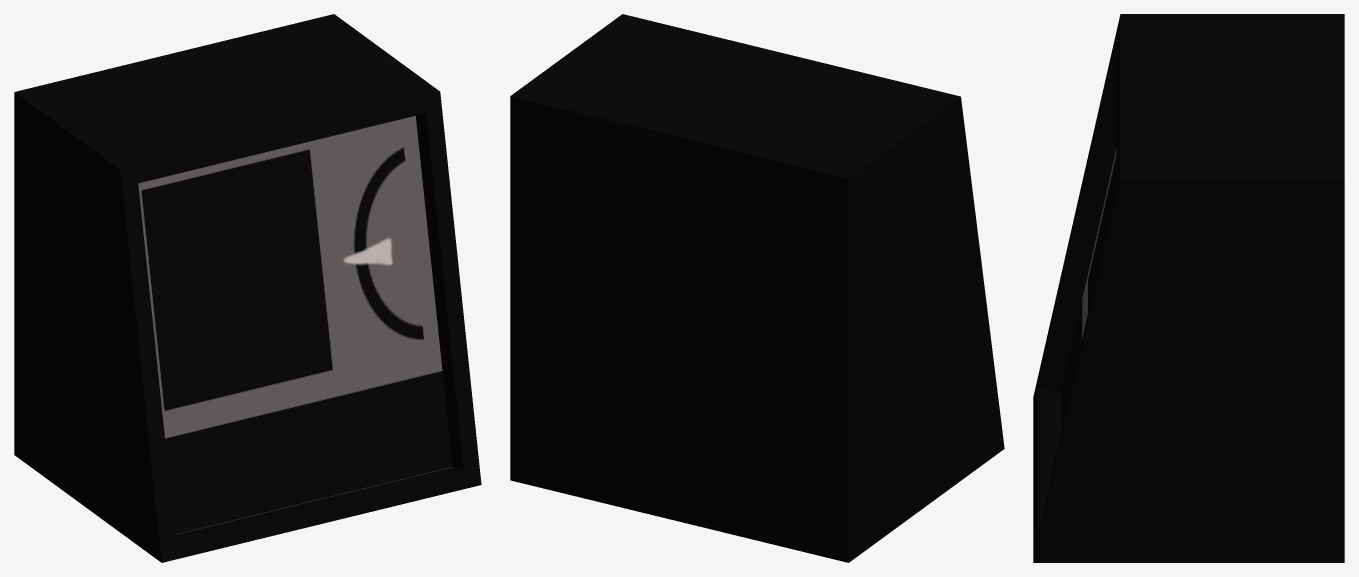
File: AlignEngineOutput.fbx
3 views of the same model, side by side, from view 1: azimuth 30°, elevation 25°; view 2: azimuth 150°, elevation 25°; view 3: azimuth 270°, elevation 25° (orthographic). The views are drawn at different scales.
Parts seen in each view (by area): view 1: AlingEngineOutput; view 2: AlingEngineOutput; view 3: AlingEngineOutput.
Part boxes in pixels (left/top/right/bottom): AlingEngineOutput: left=14, top=14, right=481, bottom=562; AlingEngineOutput: left=510, top=14, right=1004, bottom=562; AlingEngineOutput: left=1033, top=14, right=1344, bottom=562.
Size of the model in its own units: 169 by 183 by 135.
